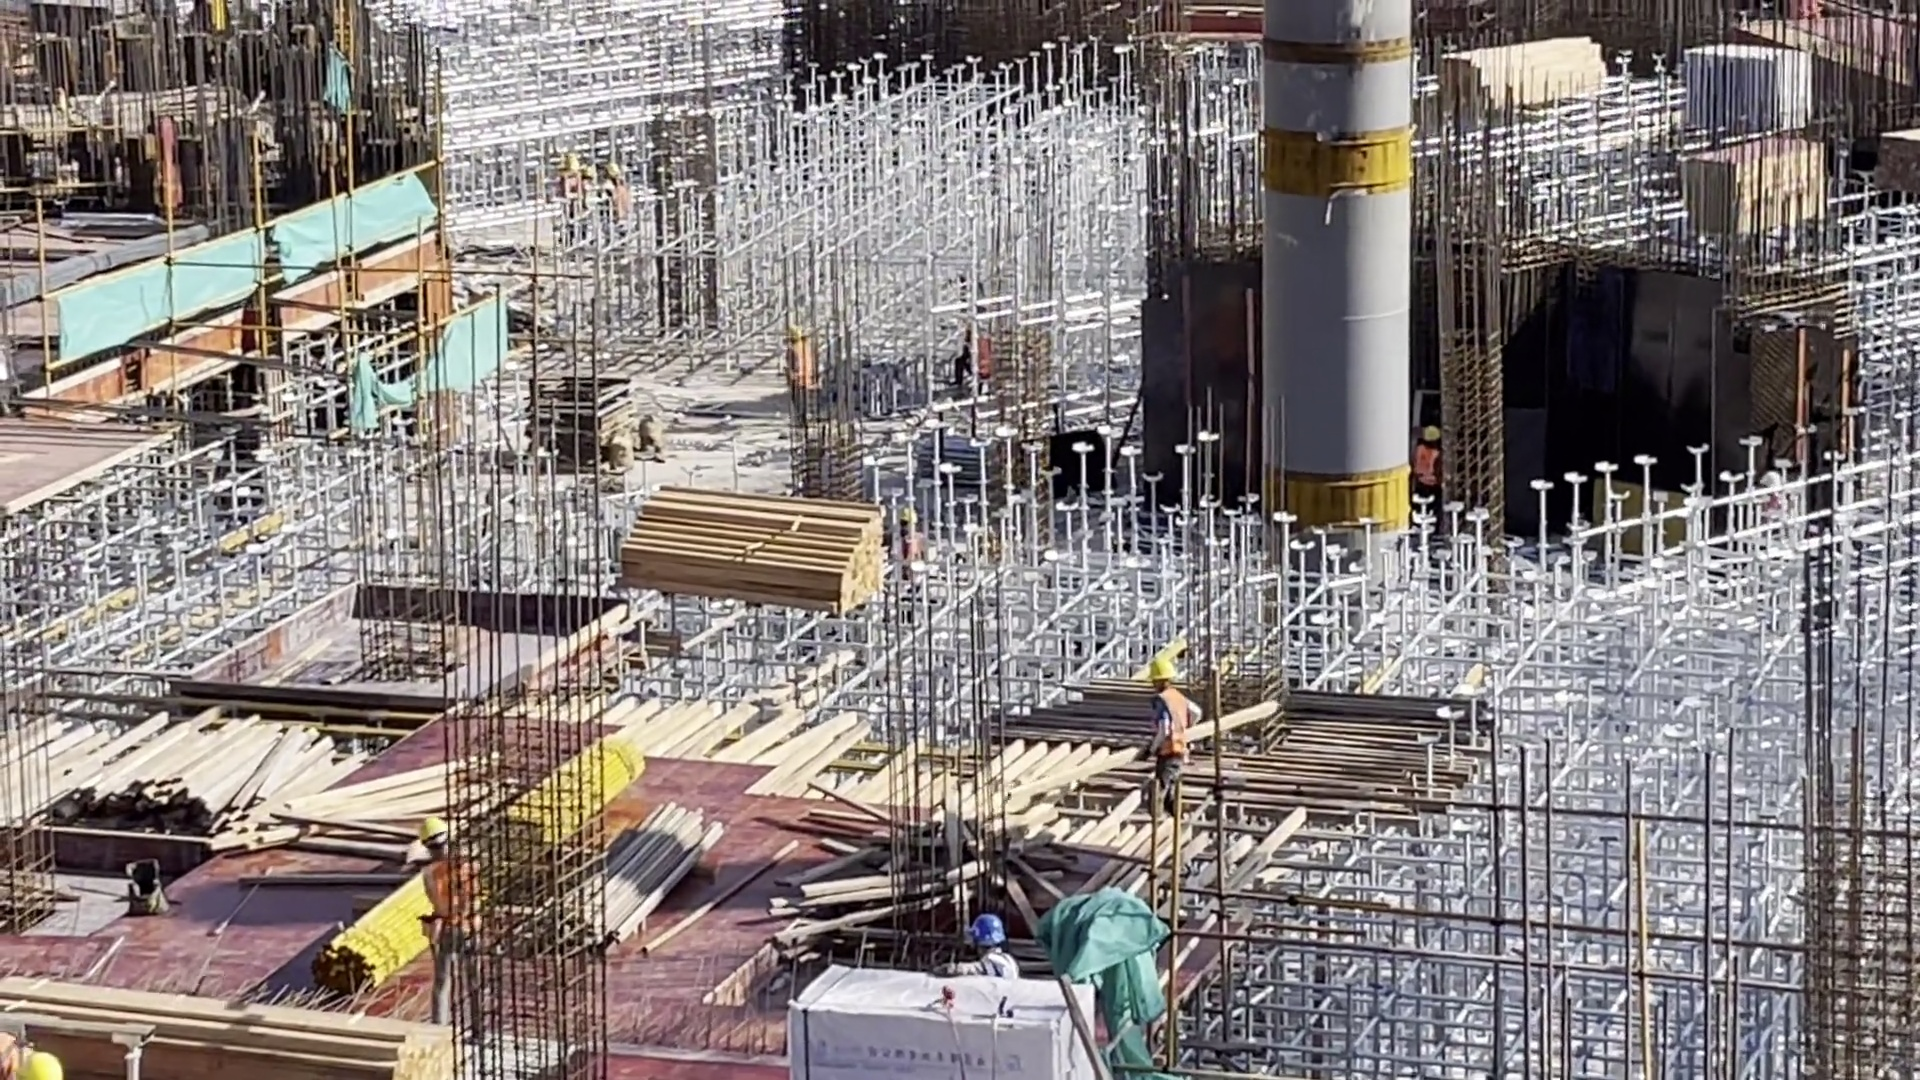helmet: (963, 915, 1009, 945), (414, 817, 451, 855), (1149, 652, 1184, 678), (1418, 424, 1442, 443)
person: (410, 819, 488, 1024), (1139, 647, 1201, 798), (937, 912, 1020, 983), (783, 323, 828, 402), (892, 496, 929, 580), (1410, 421, 1443, 501)
vest: (1152, 688, 1196, 754), (1413, 448, 1443, 491)
